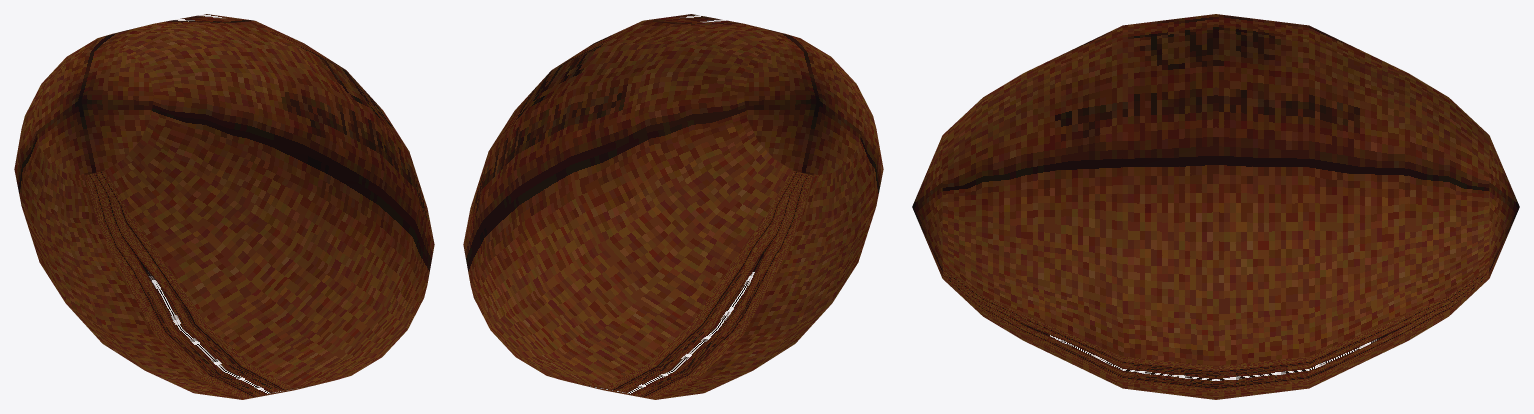
The model's file is ps2_save-icons_backyardfootball2008.glb.
3 renders of one model, left to right at view 1: azimuth 30°, elevation 25°; view 2: azimuth 150°, elevation 25°; view 3: azimuth 270°, elevation 25°, orthographic. The views are drawn at different scales.
Visible parts, largest first — view 1: view.ico; view 2: view.ico; view 3: view.ico.
Boxes of the visible parts, box(x1,y1,x2,y2) form: view.ico: box(14, 14, 434, 399); view.ico: box(463, 14, 883, 399); view.ico: box(912, 14, 1519, 399).
Size of the model in its own units: 2.71 by 2.66 by 4.24.
1 material, 1 textured.
